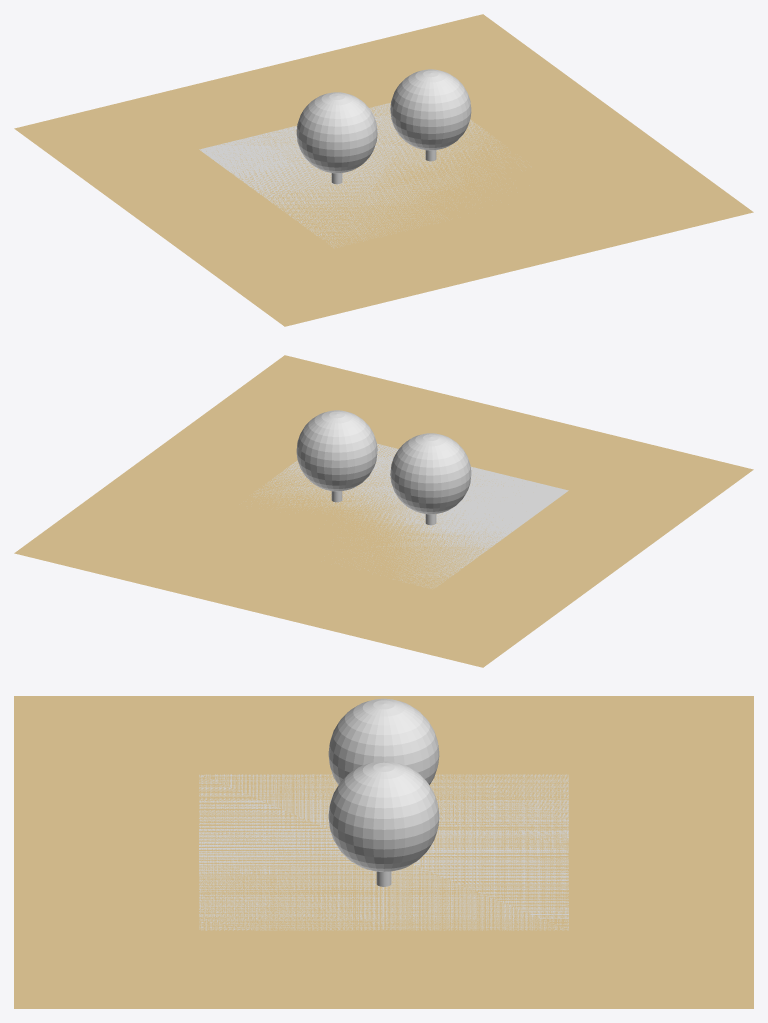
3 renders of one model, top to bottom at view 1: azimuth 30°, elevation 25°; view 2: azimuth 150°, elevation 25°; view 3: azimuth 270°, elevation 25°, orthographic. The views are drawn at different scales.
Parts seen in each view (by area): view 1: Plane, Oasis Plane, Sphere, Sphere.001; view 2: Plane, Oasis Plane, Sphere, Sphere.001; view 3: Plane, Oasis Plane, Sphere.001, Sphere.
Boxes of the visible parts, bbox=[...] form: Plane: bbox=[14, 14, 753, 326]; Oasis Plane: bbox=[199, 103, 526, 247]; Sphere: bbox=[296, 92, 377, 173]; Sphere.001: bbox=[390, 69, 471, 150]; Plane: bbox=[14, 355, 753, 667]; Oasis Plane: bbox=[251, 443, 568, 588]; Sphere: bbox=[390, 433, 471, 514]; Sphere.001: bbox=[296, 410, 377, 491]; Plane: bbox=[14, 696, 753, 1008]; Oasis Plane: bbox=[199, 774, 568, 930]; Sphere.001: bbox=[328, 761, 439, 871]; Sphere: bbox=[328, 698, 439, 784].
Bounding box in the file's own units: 20 × 5 × 20.
